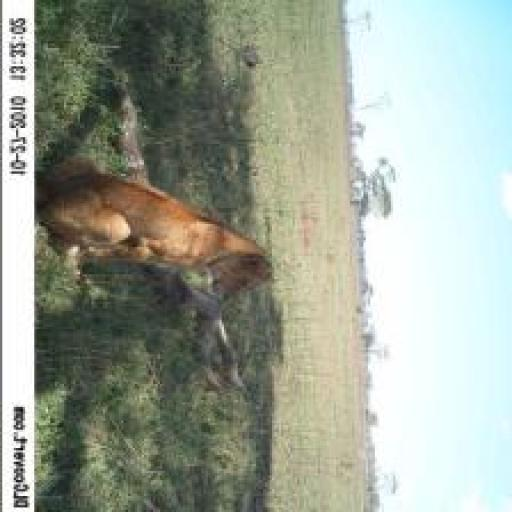lion: (39, 151, 280, 307)
